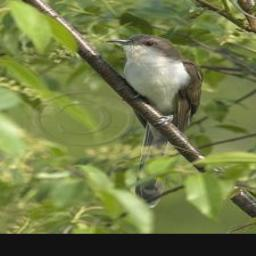Cuckoo: (105, 29, 201, 186)
